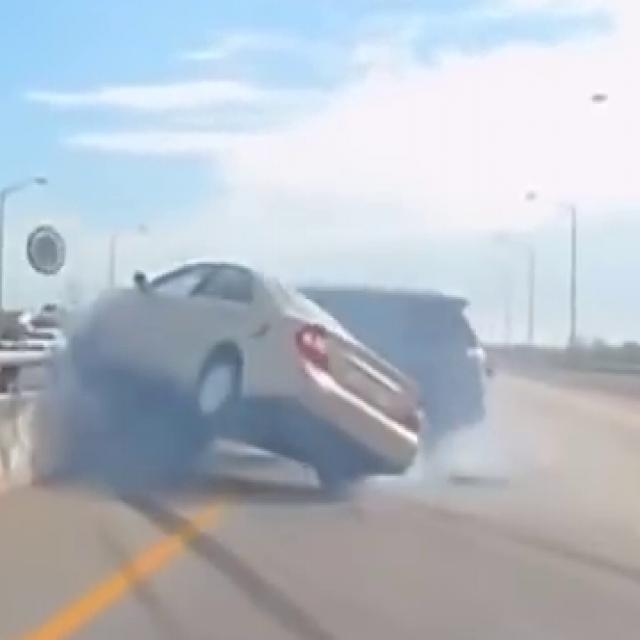accident: (60, 249, 422, 505)
